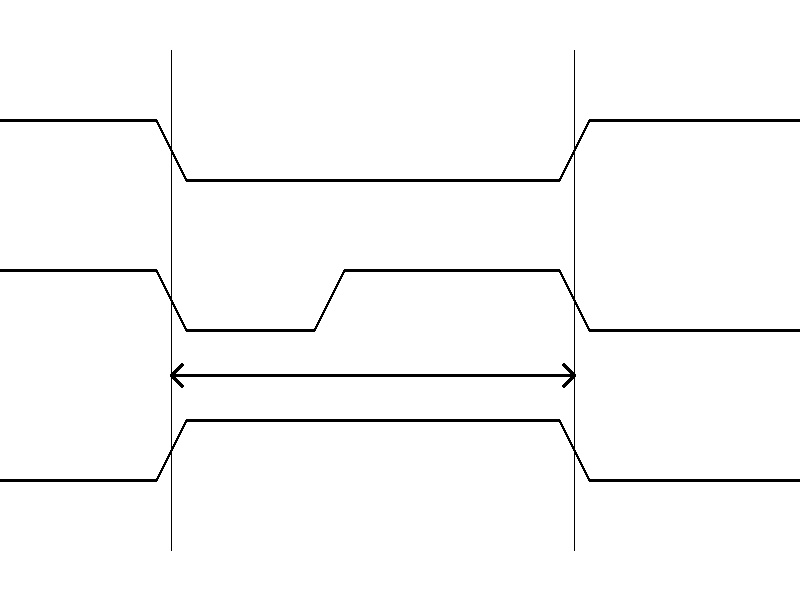double_arrow: (171, 360, 574, 390)
